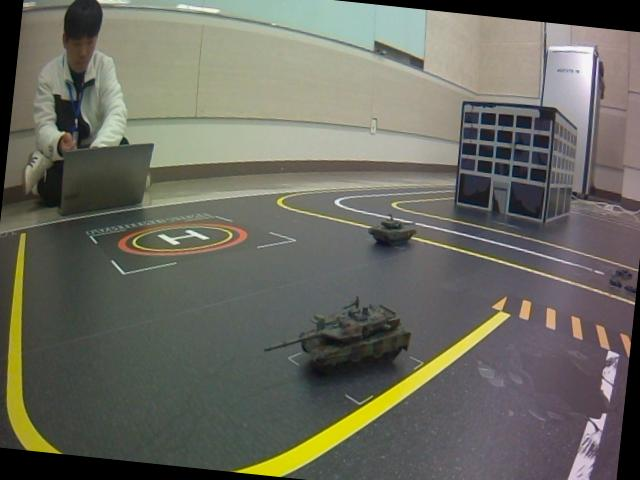Tank: (260, 282, 420, 382), (368, 211, 421, 250)
